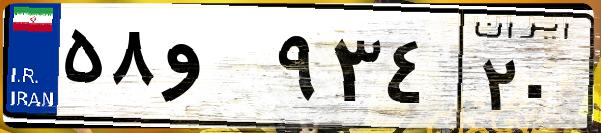0: (525, 38, 570, 115)
2: (475, 38, 525, 113)
3: (330, 28, 385, 110)
4: (385, 28, 445, 110)
5: (57, 26, 110, 100)
8: (110, 28, 158, 98)
9: (270, 28, 330, 110)
و: (158, 20, 270, 120)
